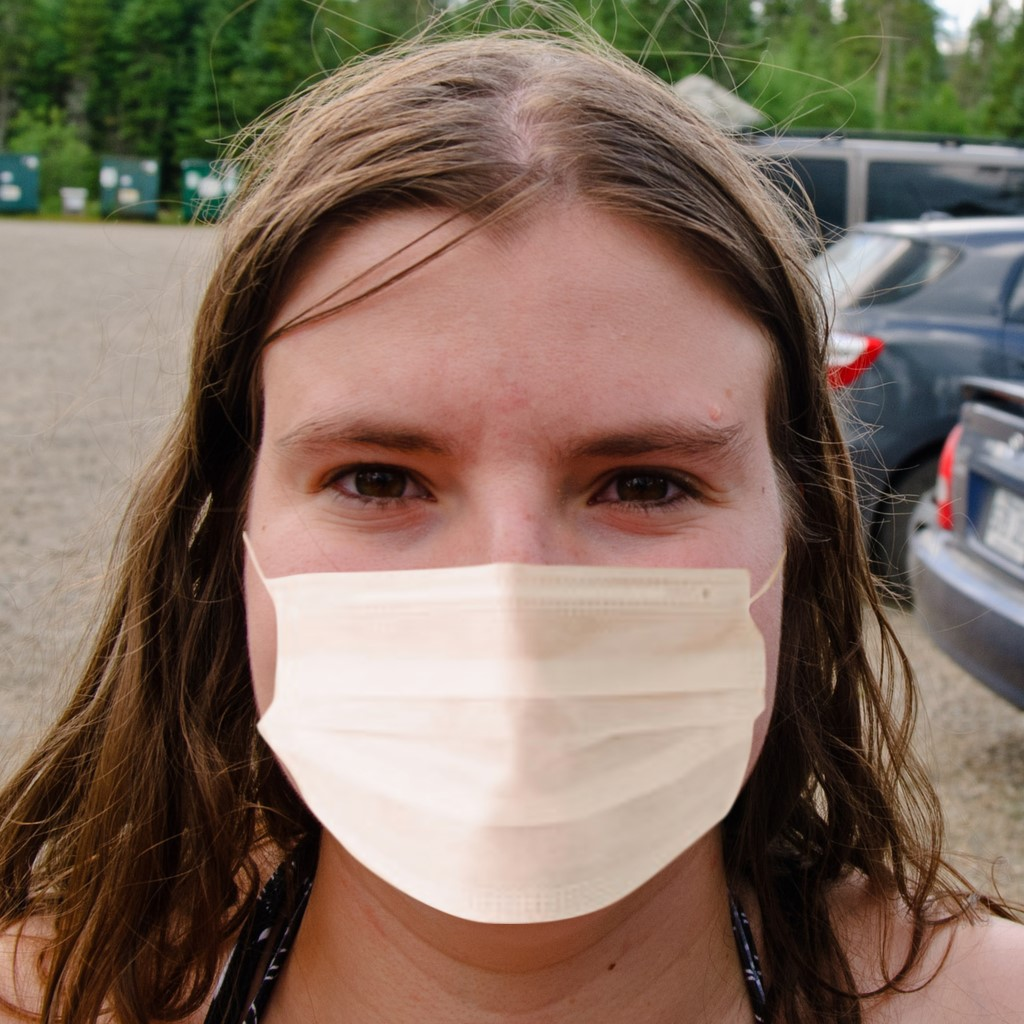con_mascara: (212, 123, 800, 952)
